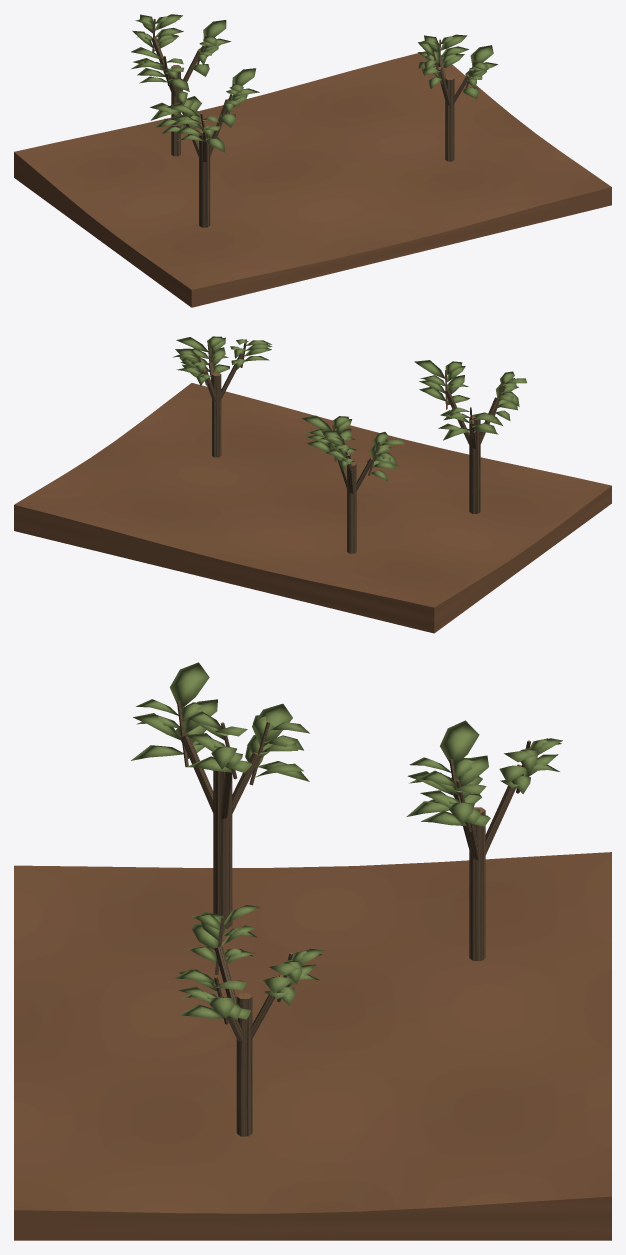
3 views of the same model, one above another, from view 1: azimuth 30°, elevation 25°; view 2: azimuth 150°, elevation 25°; view 3: azimuth 270°, elevation 25° (orthographic). The views are drawn at different scales.
Visible parts, largest first — view 1: umuahia; view 2: umuahia; view 3: umuahia.
Part boxes in pixels (x1=…): umuahia: x1=14, y1=14, x2=611, y2=307; umuahia: x1=14, y1=336, x2=611, y2=633; umuahia: x1=14, y1=662, x2=611, y2=1240.
Bounding box in the file's own units: 6.65 × 2.4 × 4.87.
1 material, 1 textured.
